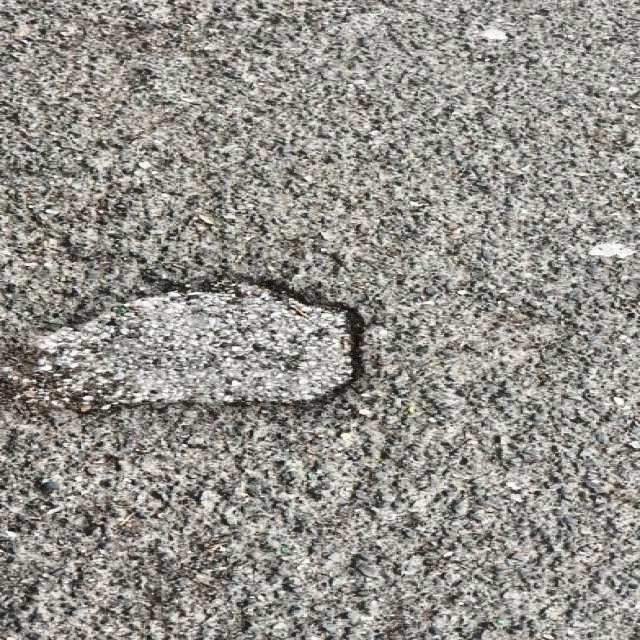Pothole: (0, 268, 371, 411)
